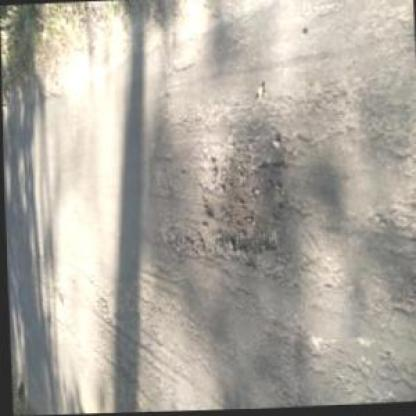pothole: (196, 133, 288, 259)
